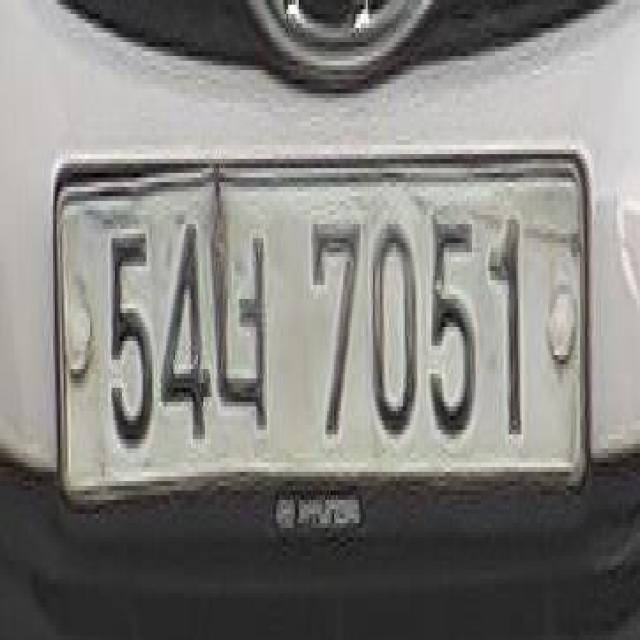0: (365, 220, 423, 453)
1: (485, 206, 529, 444)
4: (160, 216, 213, 457)
5: (426, 208, 478, 460), (106, 212, 156, 473)
7: (305, 210, 363, 458)
license_plate: (48, 130, 605, 511)
neo: (214, 228, 273, 438)
